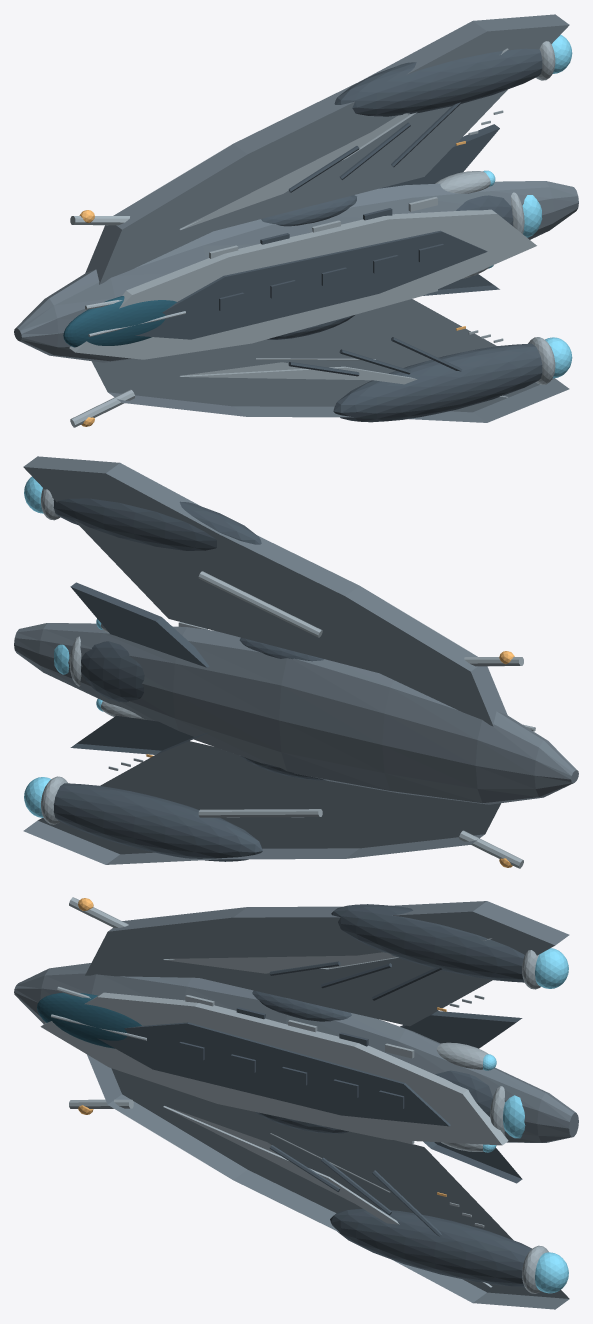
Rendered from spaceship.glb.
3 renders of one model, top to bottom at view 1: azimuth 30°, elevation 25°; view 2: azimuth 150°, elevation 25°; view 3: azimuth 330°, elevation 25°, orthographic.
Parts seen in each view (by area): view 1: Swept wing 1, Swept wing -1, Dorsal center armor, Primary angular fuselage, Top stealth panel, Outer engine nacelle -1, Outer engine nacelle 1, Pilot canopy, Wing panel 1, Wing panel -1, Lower stabilizer 1, Midship shoulder 1 (+9 smaller); view 2: Primary angular fuselage, Swept wing 1, Swept wing -1, Outer engine nacelle -1, Outer engine nacelle 1, Lower stabilizer 1, Lower stabilizer -1, Central reactor housing, Underwing hardpoint 1, Underwing hardpoint -1, Midship shoulder 1, Forward lance -1 (+2 smaller); view 3: Swept wing 1, Swept wing -1, Dorsal center armor, Top stealth panel, Primary angular fuselage, Outer engine nacelle -1, Outer engine nacelle 1, Pilot canopy, Lower stabilizer 1, Wing panel -1, Wing panel 1, Midship shoulder 1 (+9 smaller).
Boxes of the visible parts, bbox=[...] form: Swept wing 1: bbox=[85, 14, 569, 284]; Swept wing -1: bbox=[92, 299, 569, 422]; Dorsal center armor: bbox=[69, 209, 536, 359]; Primary angular fuselage: bbox=[14, 181, 578, 362]; Top stealth panel: bbox=[135, 230, 487, 339]; Outer engine nacelle -1: bbox=[333, 343, 542, 422]; Outer engine nacelle 1: bbox=[334, 48, 542, 116]; Pilot canopy: bbox=[63, 296, 176, 347]; Wing panel 1: bbox=[179, 48, 508, 229]; Wing panel -1: bbox=[180, 362, 508, 397]; Lower stabilizer 1: bbox=[380, 124, 499, 188]; Midship shoulder 1: bbox=[261, 195, 356, 226]; Primary angular fuselage: bbox=[14, 623, 578, 804]; Swept wing 1: bbox=[23, 456, 507, 726]; Swept wing -1: bbox=[23, 741, 500, 864]; Outer engine nacelle -1: bbox=[53, 783, 262, 861]; Outer engine nacelle 1: bbox=[53, 498, 261, 550]; Lower stabilizer 1: bbox=[70, 582, 209, 667]; Lower stabilizer -1: bbox=[70, 715, 208, 754]; Central reactor housing: bbox=[81, 641, 144, 702]; Underwing hardpoint 1: bbox=[198, 571, 322, 637]; Underwing hardpoint -1: bbox=[198, 809, 322, 817]; Midship shoulder 1: bbox=[239, 637, 323, 661]; Forward lance -1: bbox=[459, 830, 523, 868]; Swept wing 1: bbox=[85, 901, 569, 1026]; Swept wing -1: bbox=[87, 1054, 569, 1309]; Dorsal center armor: bbox=[40, 992, 508, 1145]; Top stealth panel: bbox=[97, 1022, 450, 1126]; Primary angular fuselage: bbox=[14, 963, 578, 1142]; Outer engine nacelle -1: bbox=[330, 1208, 531, 1286]; Outer engine nacelle 1: bbox=[331, 904, 524, 982]; Pilot canopy: bbox=[37, 992, 141, 1048]; Lower stabilizer 1: bbox=[400, 1011, 522, 1048]; Wing panel -1: bbox=[163, 1106, 492, 1287]; Wing panel 1: bbox=[163, 938, 491, 973]; Midship shoulder 1: bbox=[252, 990, 351, 1021].
Bounding box in the file's own units: 9.75 × 6.56 × 1.12.
